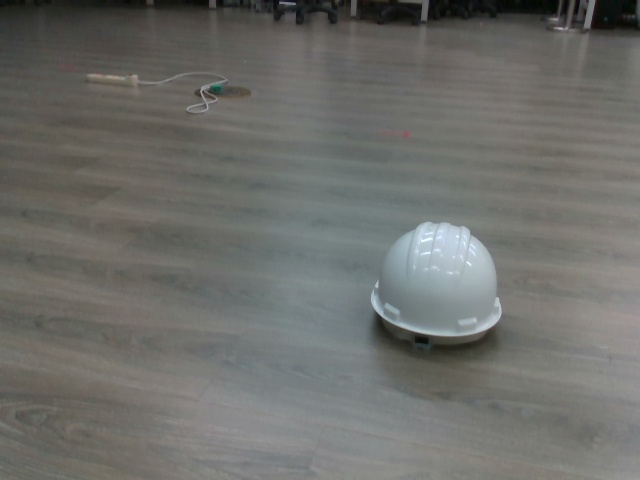helmet: (370, 216, 506, 355)
